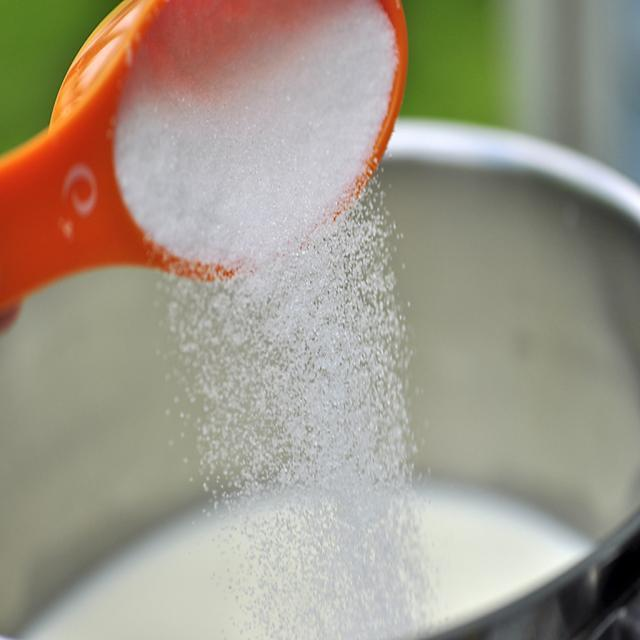Milk: (16, 471, 596, 639)
